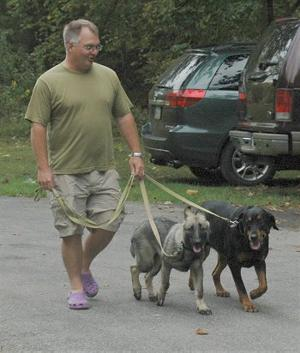person: (27, 21, 145, 307)
